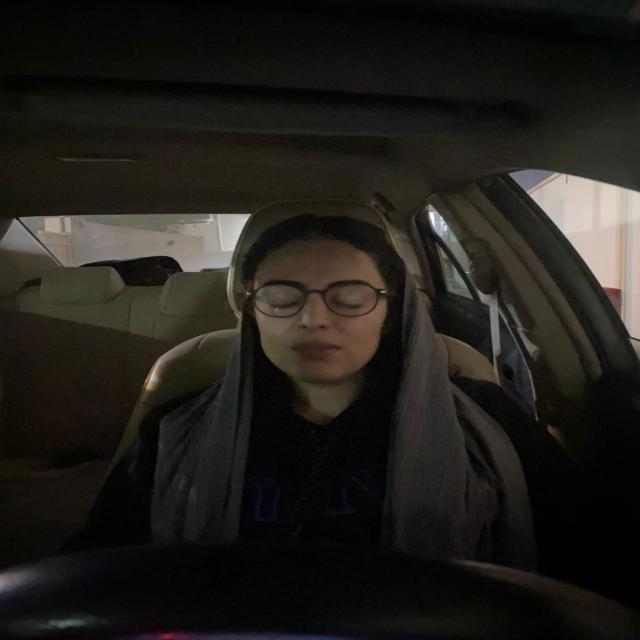drowsy: (229, 205, 412, 402)
